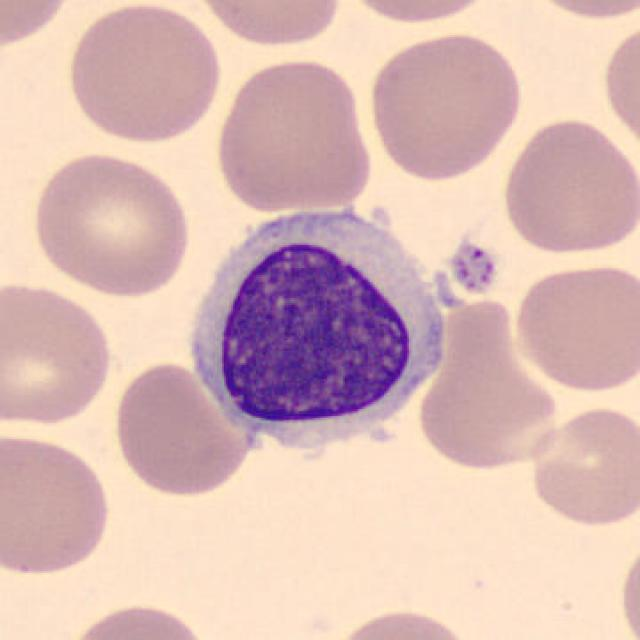Lymphocyte: (178, 196, 455, 464)
Platelets: (444, 238, 500, 298)
RBC: (414, 297, 567, 475), (210, 55, 377, 215), (27, 148, 194, 300), (364, 28, 526, 184), (62, 0, 224, 146), (108, 358, 258, 499), (496, 115, 638, 259), (0, 276, 117, 430), (508, 257, 638, 395), (0, 428, 116, 580), (524, 400, 638, 531), (188, 0, 346, 49), (60, 597, 213, 640), (598, 18, 638, 155), (327, 604, 474, 640), (335, 0, 501, 26), (0, 0, 80, 51), (518, 0, 638, 21), (617, 536, 640, 640)
